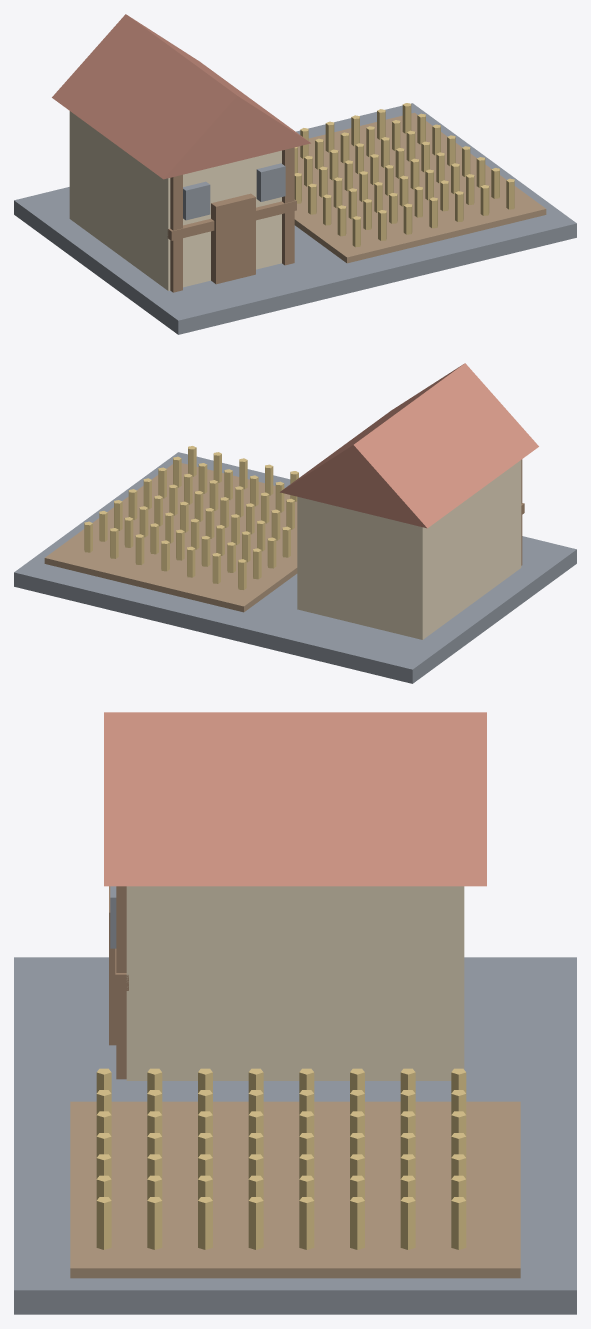
Rendered from granja.glb.
3 renders of one model, top to bottom at view 1: azimuth 30°, elevation 25°; view 2: azimuth 150°, elevation 25°; view 3: azimuth 270°, elevation 25°, orthographic. The views are drawn at different scales.
Visible parts, largest first — view 1: world; view 2: world; view 3: world.
Boxes of the visible parts, <box> form: world: <box>14,14,576,334</box>; world: <box>14,363,576,683</box>; world: <box>14,712,576,1314</box>.
Bounding box in the file's own units: 7 × 3.34 × 5.
